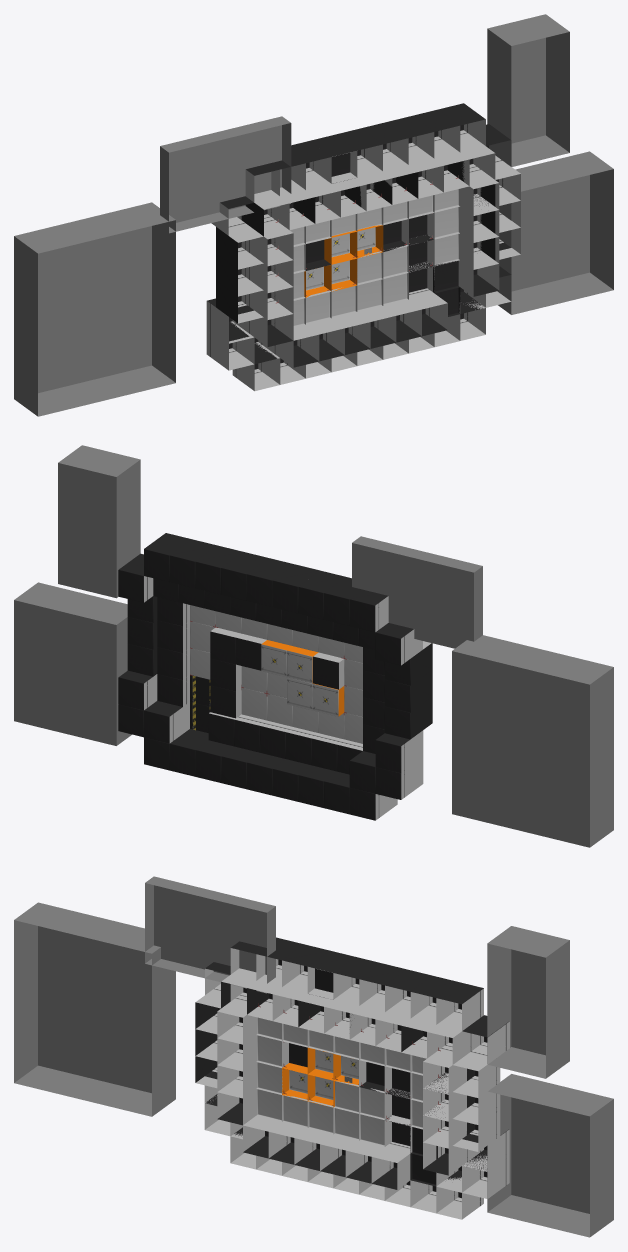
Rendered from BATTLE.fbx.
3 renders of one model, top to bottom at view 1: azimuth 30°, elevation 25°; view 2: azimuth 150°, elevation 25°; view 3: azimuth 330°, elevation 25°, orthographic.
Parts seen in each view (by area): view 1: S_background_6, S_groud_outsaid_6, S_groud_insaid_6_049, S_groud_insaid_6_036, S_groud_outsaid_6_105, S_groud_insaid_6_02, S_groud_insaid_6_051, S_groud_insaid_6_048, S_groud_insaid_6_053, S_groud_insaid_6_05, S_groud_insaid_6_055, S_groud_insaid_6_052 (+9 smaller); view 2: S_background_6, S_groud_outsaid_6, S_groud_outsaid_6_128, S_groud_insaid_6_050, S_groud_outsaid_6_129, S_groud_insaid_6_036, S_groud_insaid_6_048, S_groud_outsaid_6_110, S_groud_outsaid_6_106, S_groud_outsaid_6_105, S_groud_insaid_6_052, S_groud_insaid_6_049 (+6 smaller); view 3: S_background_6, S_groud_outsaid_6, S_groud_insaid_6_050, S_groud_insaid_6_036, S_groud_insaid_6_049, S_groud_outsaid_6_105, S_groud_outsaid_6_129, S_groud_insaid_6_06, S_groud_insaid_6_053, S_groud_outsaid_6_110, S_groud_insaid_6_051, S_groud_insaid_6_054 (+13 smaller).
Part boxes in pixels (bbox=[...]): S_background_6: bbox=[14, 14, 613, 416]; S_groud_outsaid_6: bbox=[206, 103, 520, 391]; S_groud_insaid_6_049: bbox=[324, 253, 357, 291]; S_groud_insaid_6_036: bbox=[324, 230, 357, 264]; S_groud_outsaid_6_105: bbox=[401, 212, 434, 245]; S_groud_insaid_6_02: bbox=[433, 232, 460, 266]; S_groud_insaid_6_051: bbox=[381, 245, 408, 278]; S_groud_insaid_6_048: bbox=[350, 225, 383, 258]; S_groud_insaid_6_053: bbox=[355, 278, 383, 311]; S_groud_insaid_6_05: bbox=[433, 205, 460, 239]; S_groud_insaid_6_055: bbox=[304, 290, 331, 324]; S_groud_insaid_6_052: bbox=[381, 273, 408, 305]; S_background_6: bbox=[14, 445, 613, 847]; S_groud_outsaid_6: bbox=[118, 533, 432, 820]; S_groud_outsaid_6_128: bbox=[313, 652, 344, 689]; S_groud_insaid_6_050: bbox=[312, 683, 344, 716]; S_groud_outsaid_6_129: bbox=[210, 685, 241, 718]; S_groud_insaid_6_036: bbox=[287, 646, 318, 683]; S_groud_insaid_6_048: bbox=[261, 640, 292, 677]; S_groud_outsaid_6_110: bbox=[210, 658, 241, 691]; S_groud_outsaid_6_106: bbox=[236, 633, 266, 670]; S_groud_outsaid_6_105: bbox=[210, 627, 240, 664]; S_groud_insaid_6_052: bbox=[241, 688, 267, 720]; S_groud_insaid_6_049: bbox=[287, 677, 312, 710]; S_background_6: bbox=[14, 876, 613, 1237]; S_groud_outsaid_6: bbox=[195, 937, 509, 1219]; S_groud_insaid_6_050: bbox=[282, 1063, 314, 1101]; S_groud_insaid_6_036: bbox=[307, 1047, 340, 1080]; S_groud_insaid_6_049: bbox=[307, 1069, 334, 1107]; S_groud_outsaid_6_105: bbox=[384, 1066, 412, 1099]; S_groud_outsaid_6_129: bbox=[384, 1115, 412, 1153]; S_groud_insaid_6_06: bbox=[256, 1061, 282, 1094]; S_groud_insaid_6_053: bbox=[333, 1106, 360, 1140]; S_groud_outsaid_6_110: bbox=[384, 1088, 412, 1126]; S_groud_insaid_6_051: bbox=[359, 1087, 384, 1119]; S_groud_insaid_6_054: bbox=[307, 1100, 333, 1132].
Bounding box in the file's own units: 22.39 × 10.49 × 2.52.
Materials: 2 (1 with a texture image).
